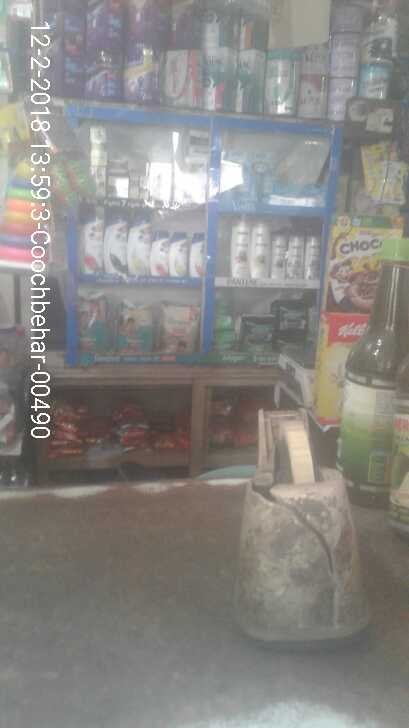venus: (225, 149, 251, 199), (251, 151, 272, 199), (274, 179, 301, 204), (301, 182, 323, 204)
